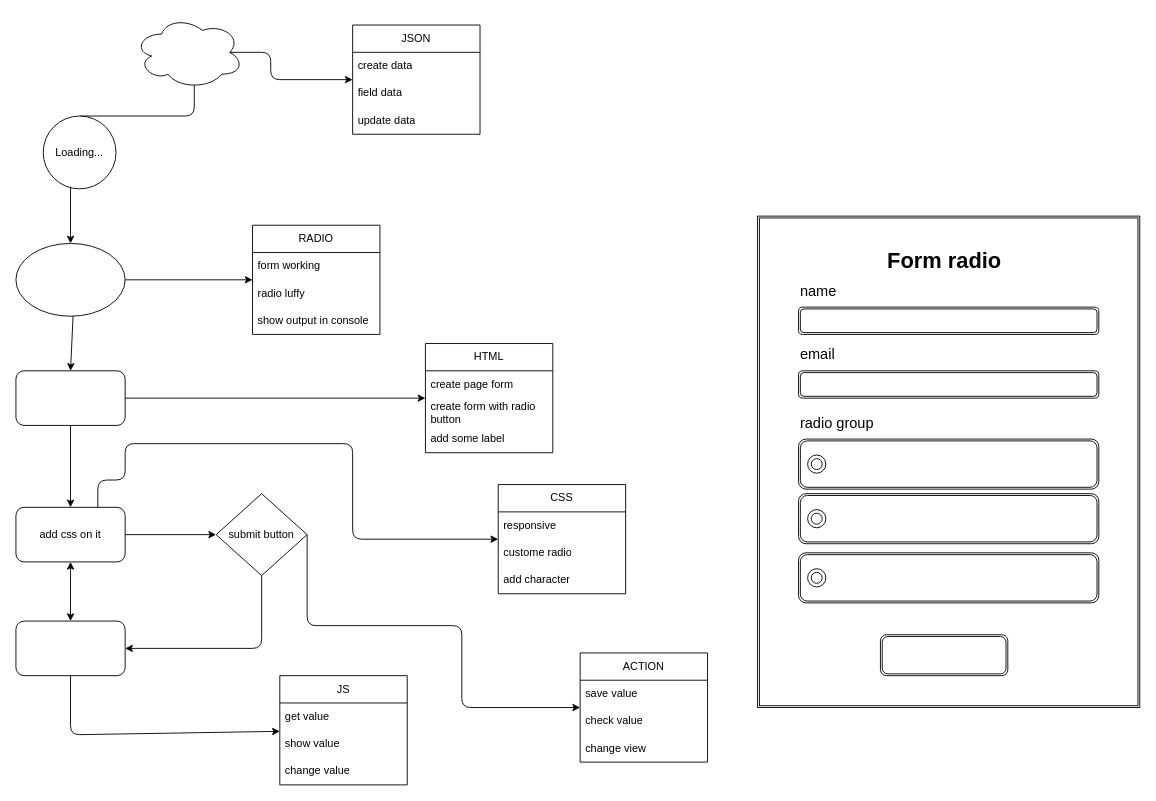
This 1156x801 diagram has some shape labels left out. The shapes that lost their labels are listed below. From the top down, each one's centre as x and y in pixels, then its label:
At (x=188, y=52): "Data Json".
At (x=70, y=279): "Radio button lufffy".
At (x=70, y=397): "create html code".
At (x=70, y=648): "use js to save or view data".
At (x=944, y=655): "Submit".
